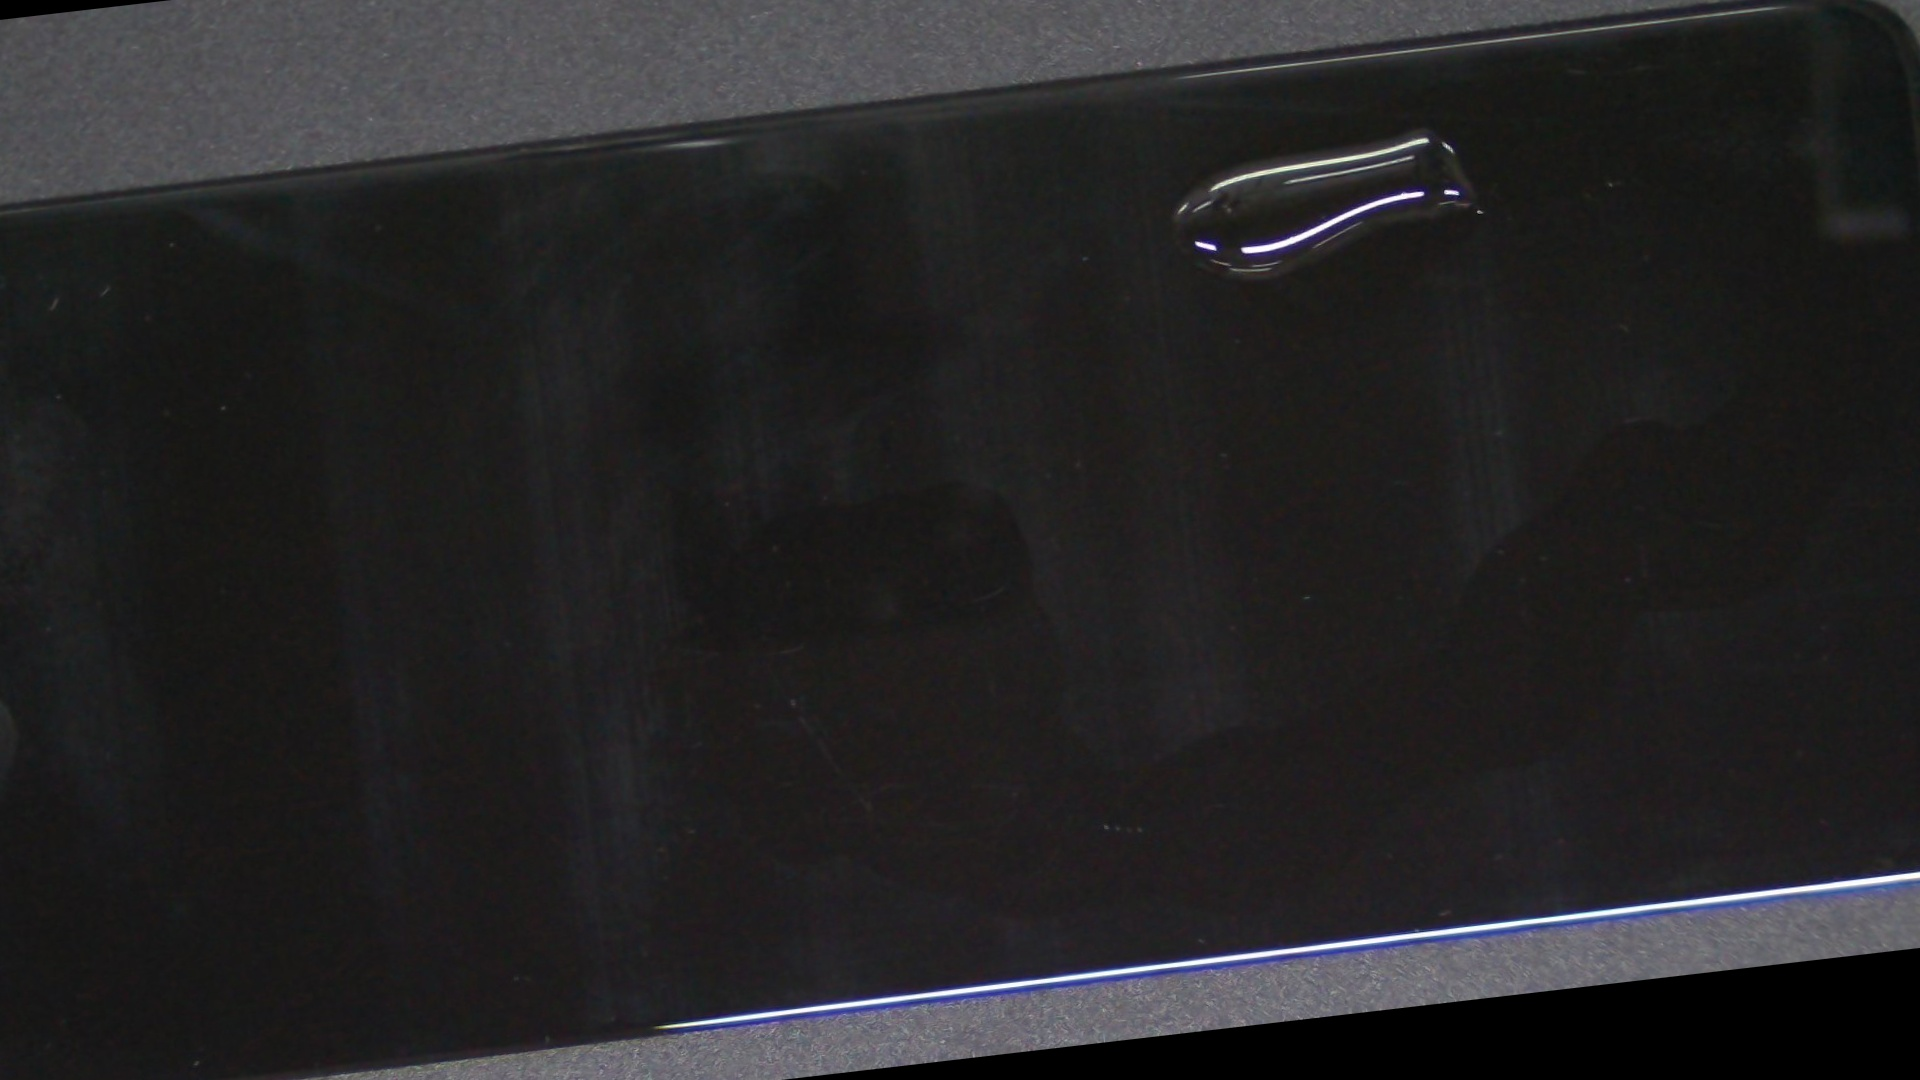oil: (566, 0, 1920, 360)
